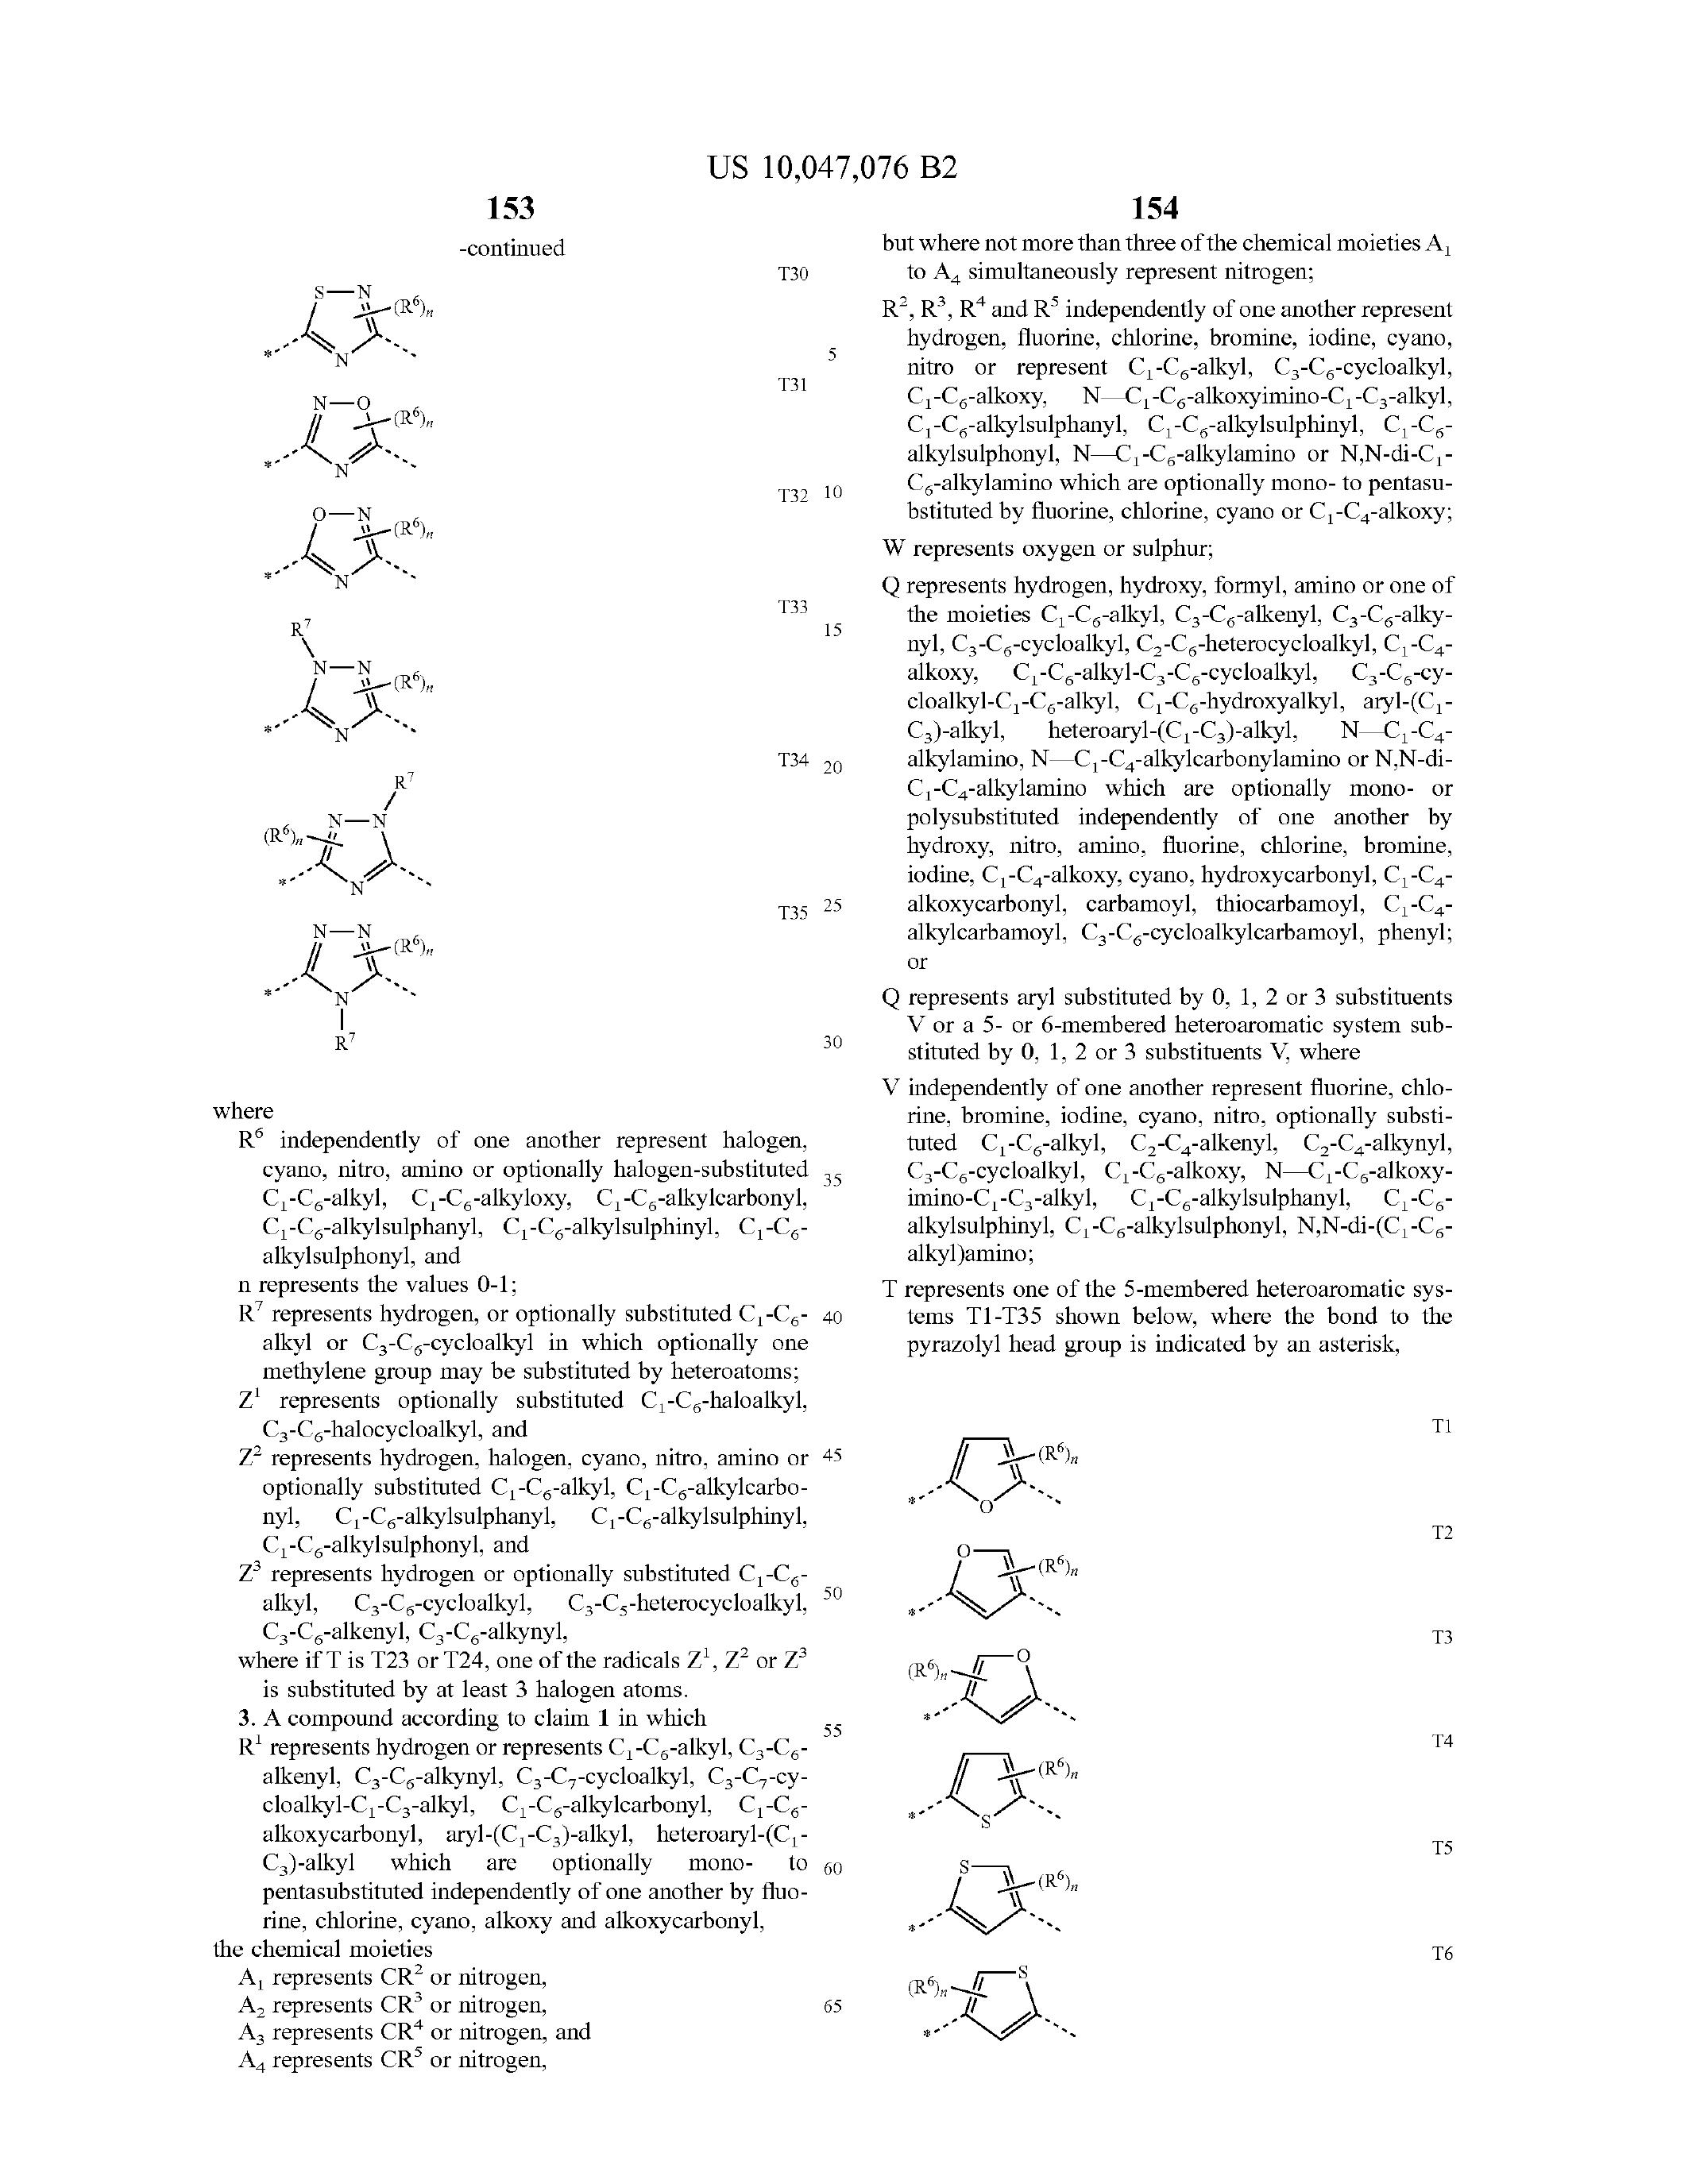substitutes: (220, 761, 812, 1369)
